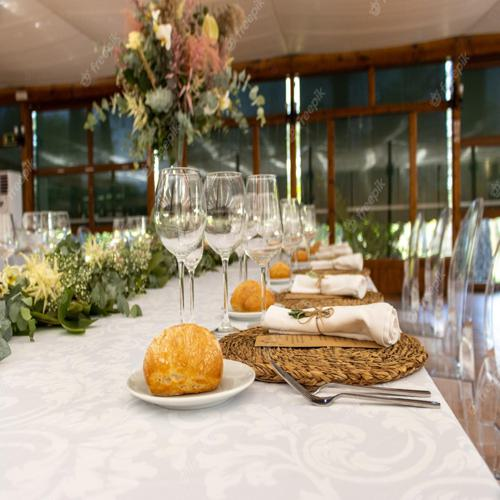copa: (156, 167, 207, 335), (203, 172, 251, 336), (243, 175, 284, 328), (279, 200, 304, 283), (299, 206, 319, 279)
